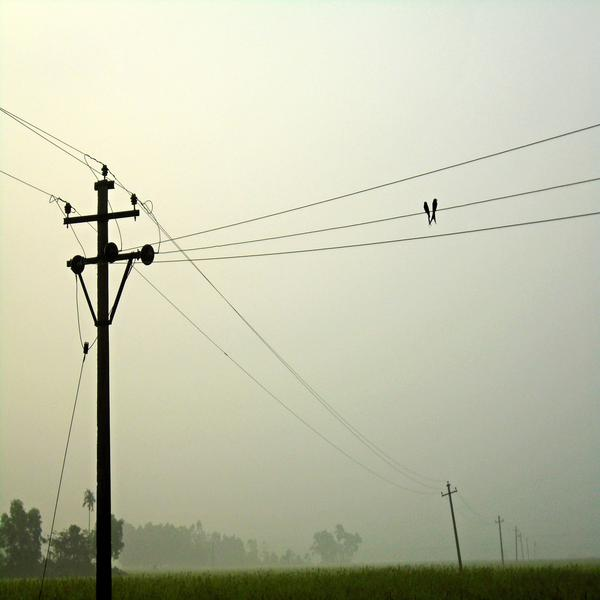utility_pole: (53, 157, 161, 346)
